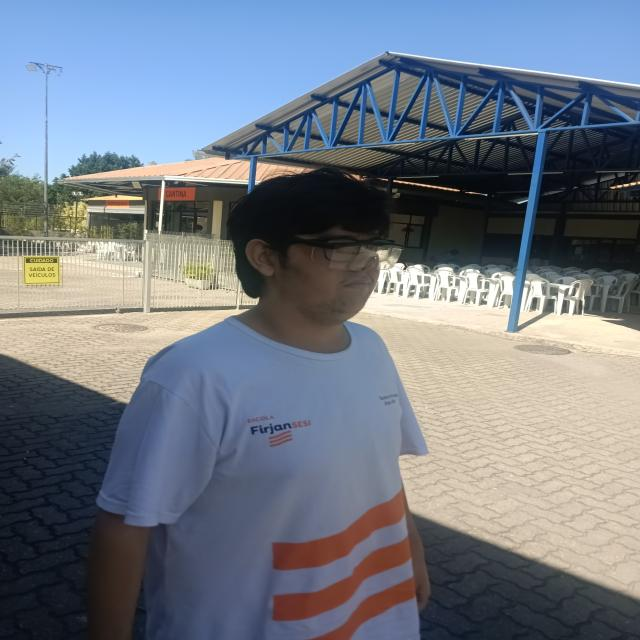oculos-epi: (280, 235, 407, 271)
